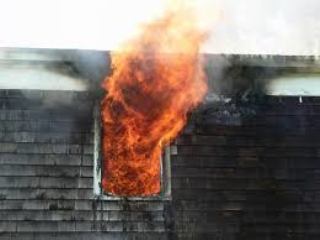fire: (95, 17, 213, 204)
